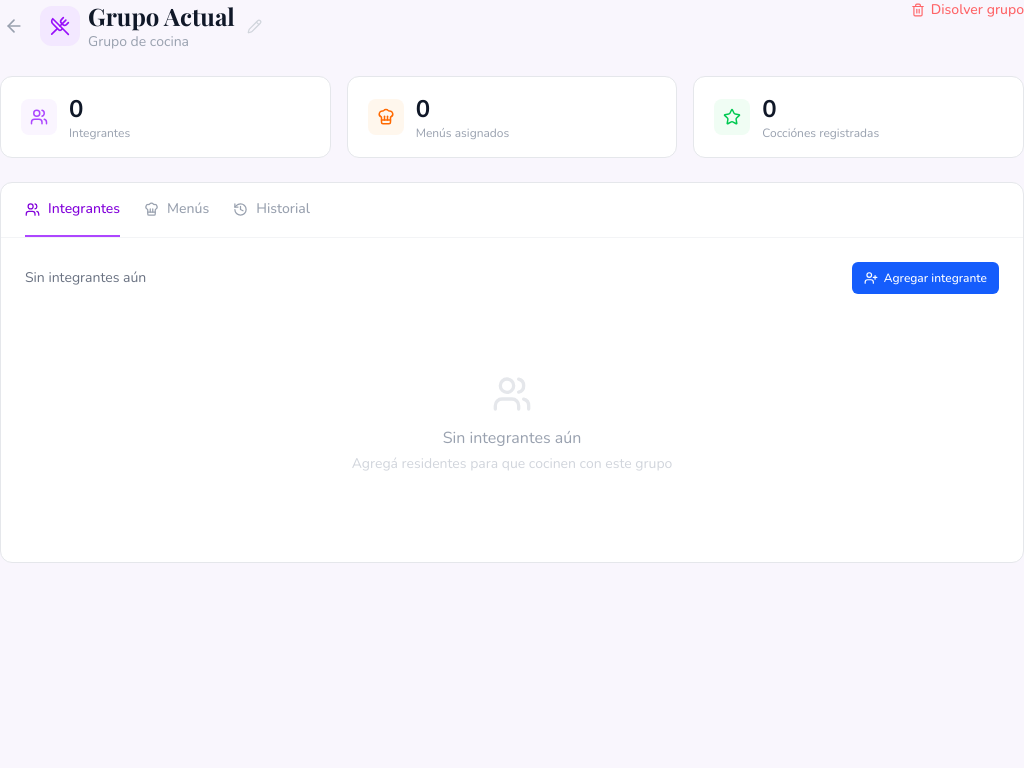
Test: GrupoDetailPage — modal "Agregar integrante" › ofrece el botón Agregar habilitado a un residente sin grupo
This screenshot has width=1024, height=768.
Click the button "Agregar integrante" at (925, 278), box [852, 262, 999, 294]
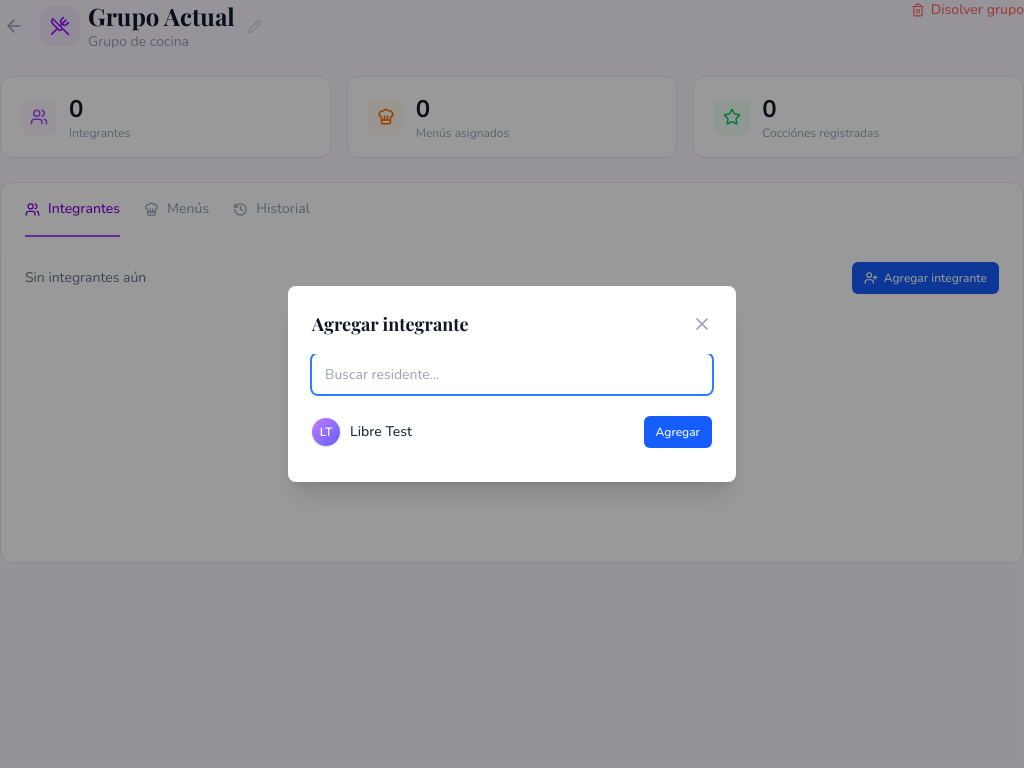
Expected: the button "Agregar" is enabled, [644, 416, 712, 448]
